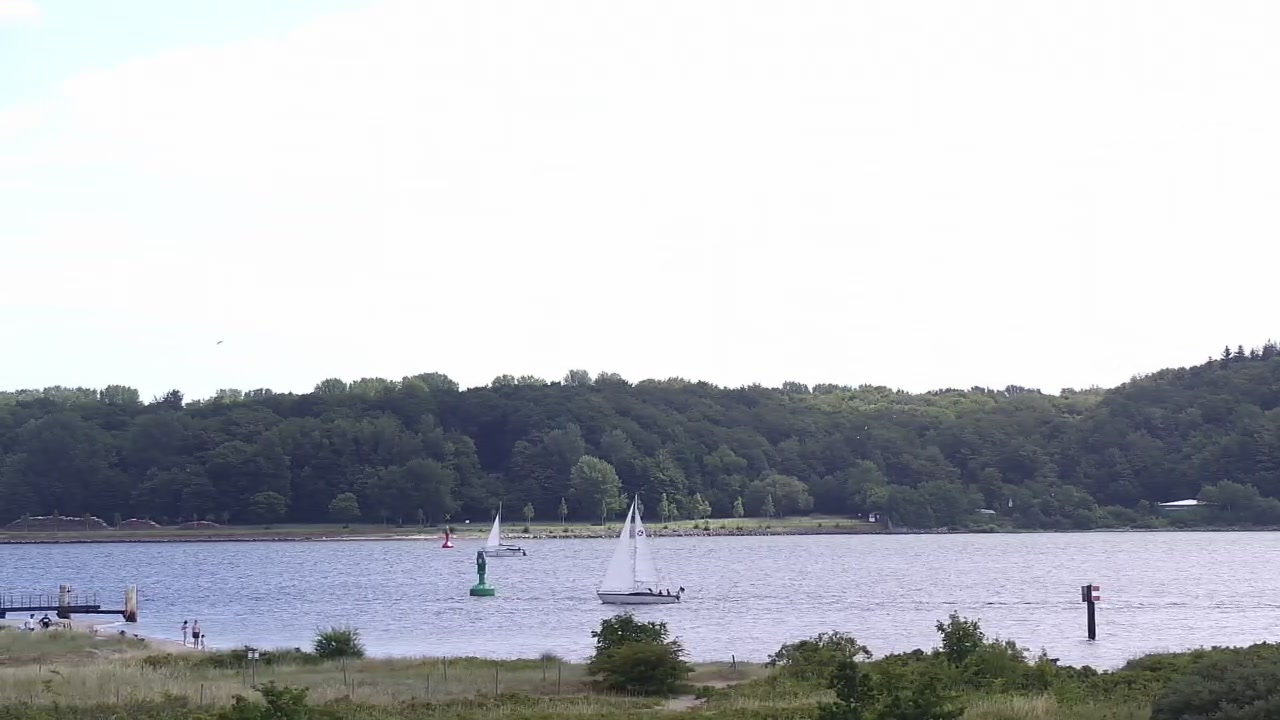human: (190, 618, 201, 650), (37, 612, 53, 630), (179, 619, 190, 645), (23, 612, 35, 632), (201, 632, 208, 652)
sea: (596, 491, 685, 604), (481, 500, 526, 557)
